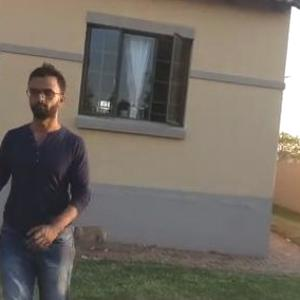follow: (0, 54, 97, 299)
null: (71, 222, 112, 254)
